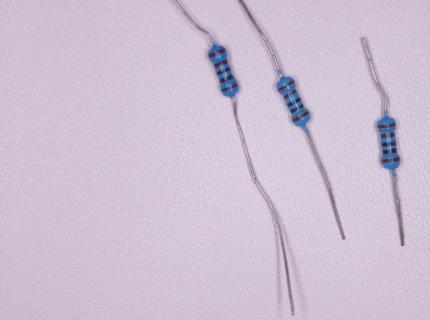Black band: (290, 103, 305, 114), (287, 97, 301, 108), (219, 74, 234, 84), (217, 67, 230, 76), (381, 141, 396, 147), (383, 148, 396, 154)
Brown band: (278, 79, 295, 92), (292, 110, 309, 123), (208, 48, 226, 59), (283, 89, 297, 99), (221, 84, 238, 92), (214, 60, 228, 69), (377, 122, 396, 128), (381, 132, 395, 139), (382, 157, 400, 162)
